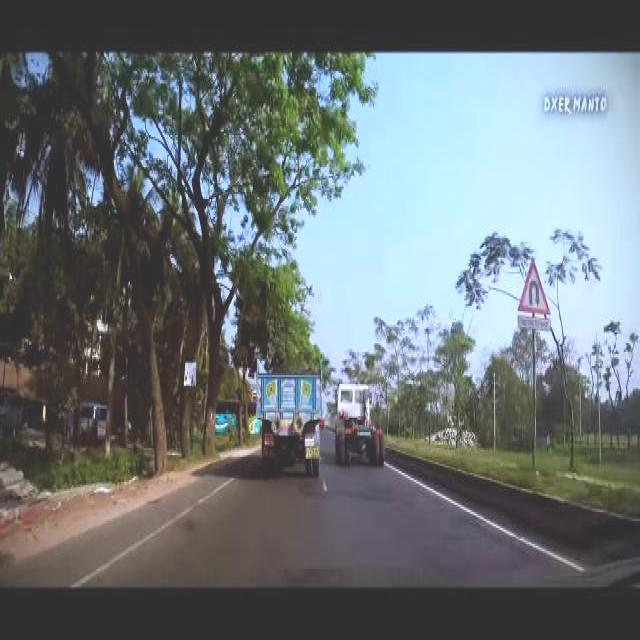TRUCK: (258, 369, 321, 471), (336, 379, 387, 465)
